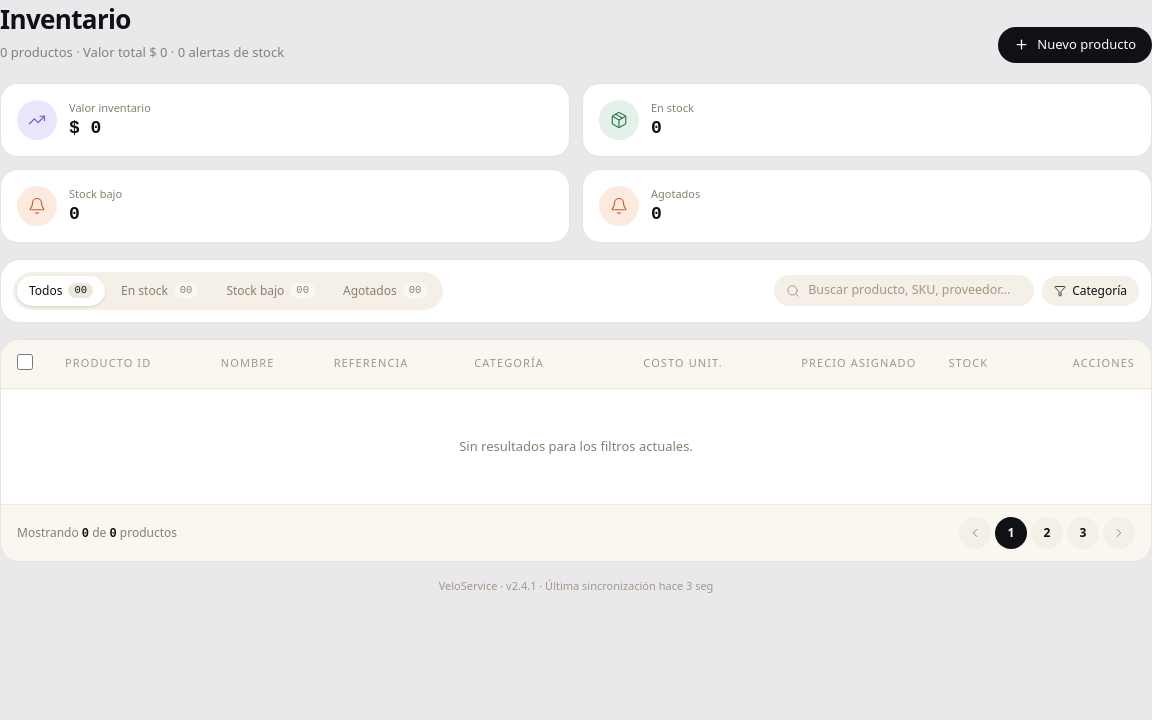
Scenario: InventarioPage › keeps the existing inline error for non-conflict create failures
Click the button "Nuevo producto" at (1075, 45), box [998,27,1151,62]
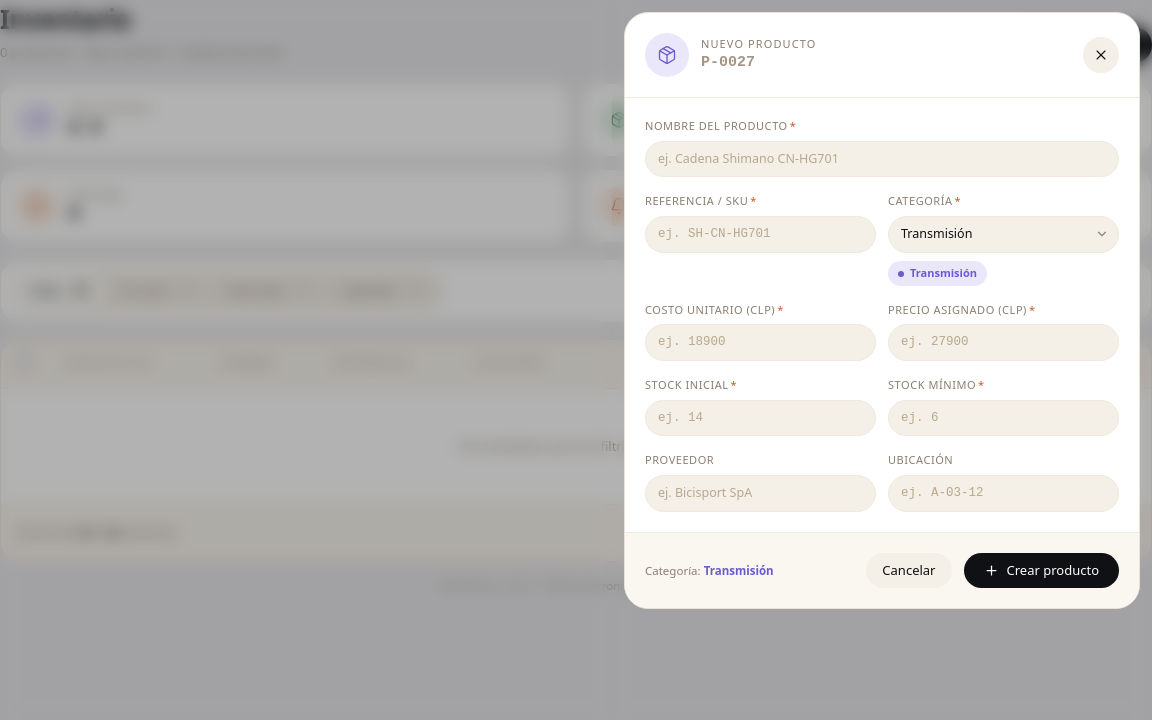
Type "Cadena Shimano" into the field with placeholder "ej. Cadena Shimano CN-HG701" at (882, 159), box [645,140,1119,177]
Type "SH-HG601-11" into the field with placeholder "ej. SH-CN-HG701" at (760, 234), box [645,216,876,253]
Type "18900" into the field with placeholder "ej. 18900" at (760, 343), box [645,324,876,361]
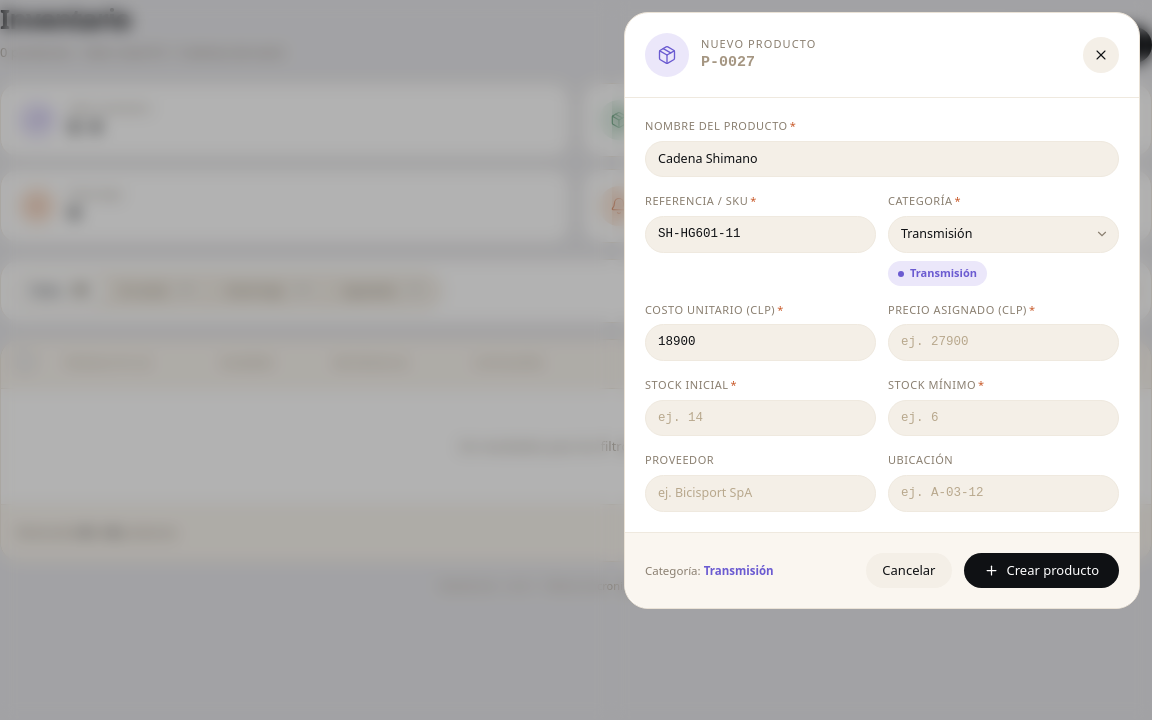
Type "27900" into the field with placeholder "ej. 27900" at (1004, 343), box [888,324,1119,361]
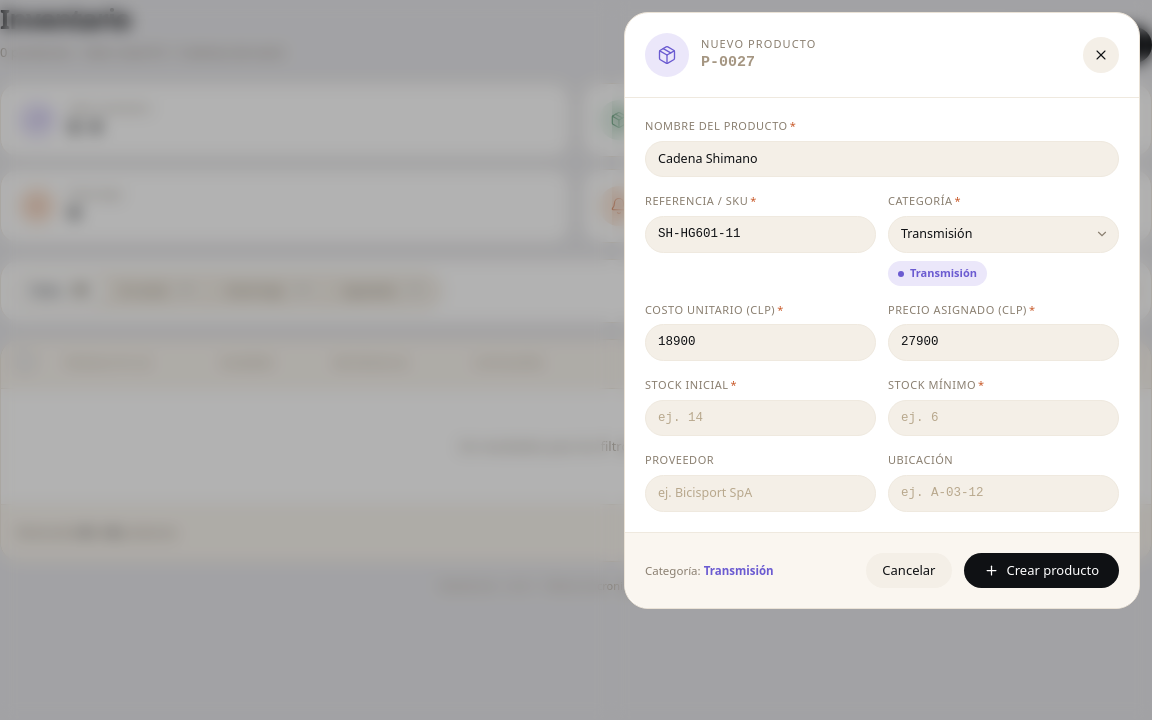
Type "14" into the field with placeholder "ej. 14" at (760, 418), box [645,400,876,436]
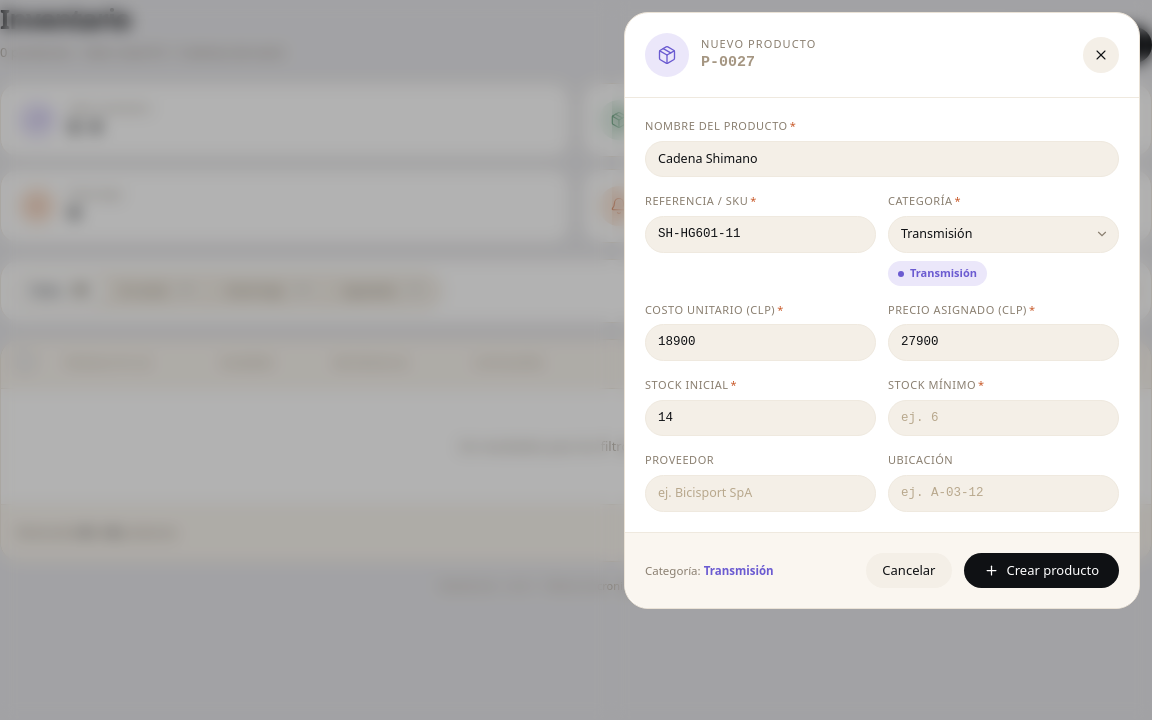
Type "6" into the field with placeholder "ej. 6" at (1004, 418), box [888,400,1119,436]
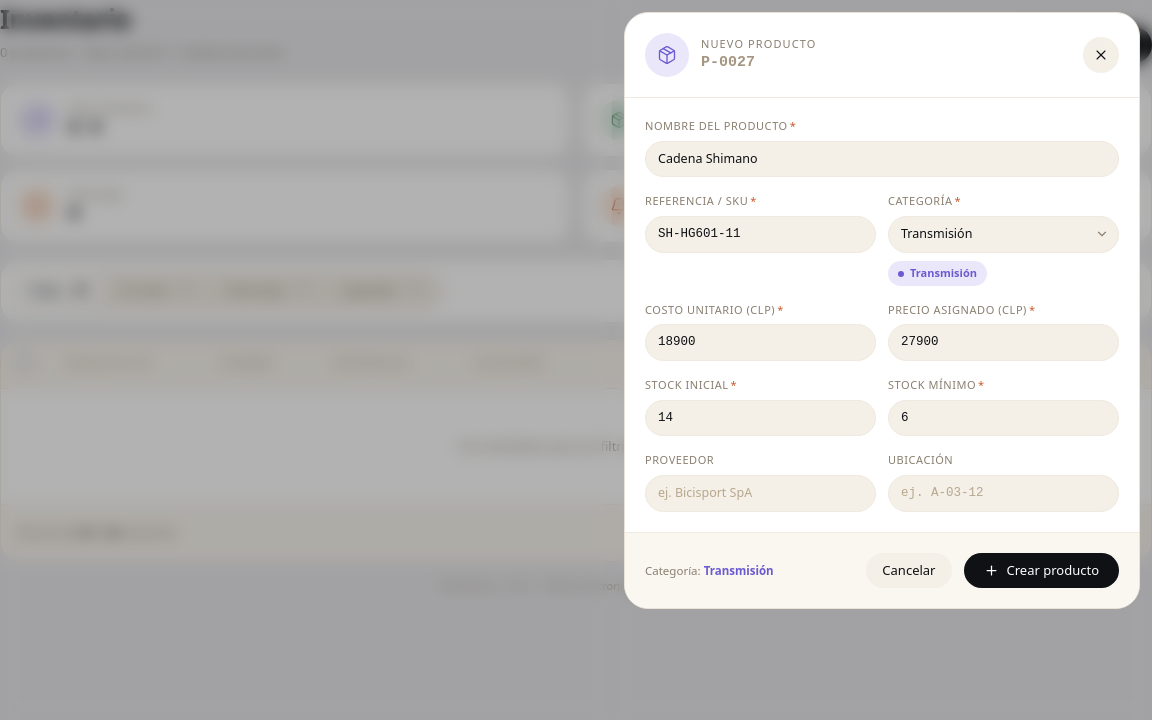
Click the button "Crear producto" at (1041, 570), box [964,552,1119,588]
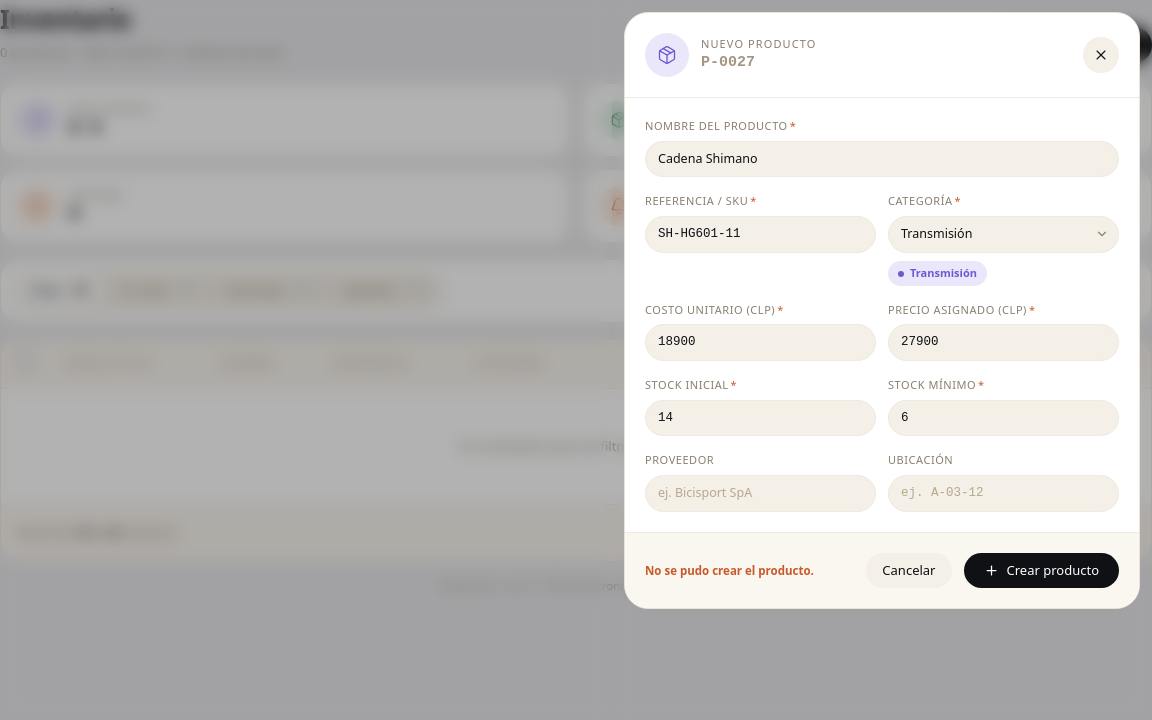
Check: the text "No se pudo crear el producto." is shown, box [645,563,814,578]
